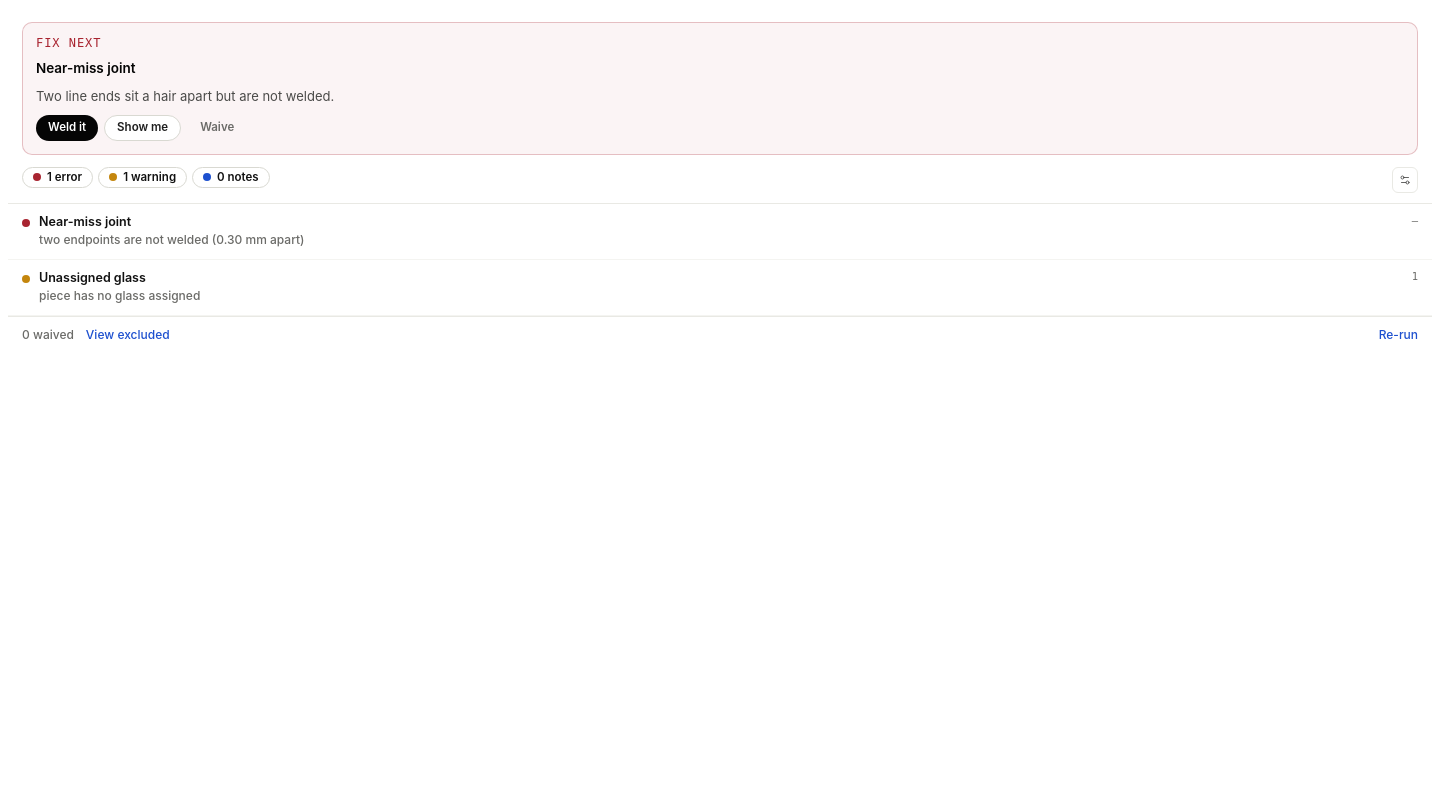
Scenario: RulesPanel (F-030) › shows the rule settings with an override select per rule
This screenshot has width=1440, height=791.
Click the button named "Rule settings".
click(1405, 180)  # box [1392, 167, 1418, 193]
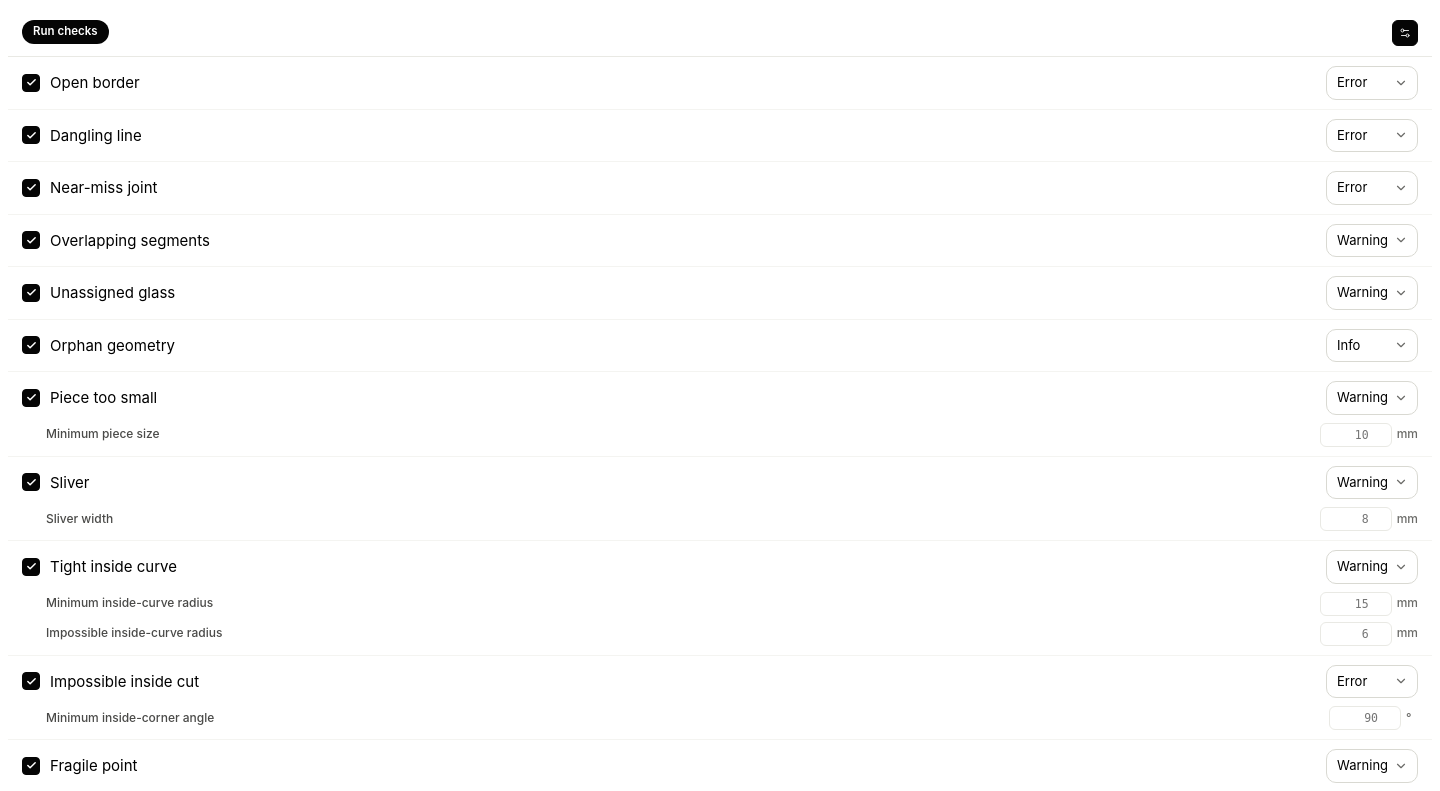
Now the text "Open border" is shown, box [50, 71, 140, 94]
